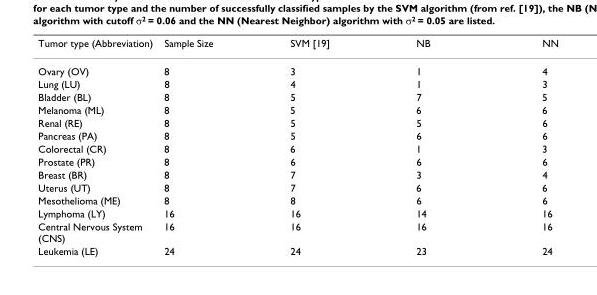table: (37, 36, 557, 256)
table column: (250, 36, 372, 256), (37, 36, 157, 256), (372, 36, 485, 256), (157, 36, 250, 256), (485, 36, 557, 256)
table column header: (37, 36, 557, 56)
table row: (37, 219, 557, 244), (37, 56, 557, 77), (37, 36, 557, 56), (37, 77, 557, 90), (37, 90, 557, 103), (37, 115, 557, 128), (37, 128, 557, 141), (37, 141, 557, 154), (37, 154, 557, 167), (37, 167, 557, 180), (37, 180, 557, 193), (37, 193, 557, 206), (37, 206, 557, 219), (37, 103, 557, 115), (37, 244, 557, 256)
